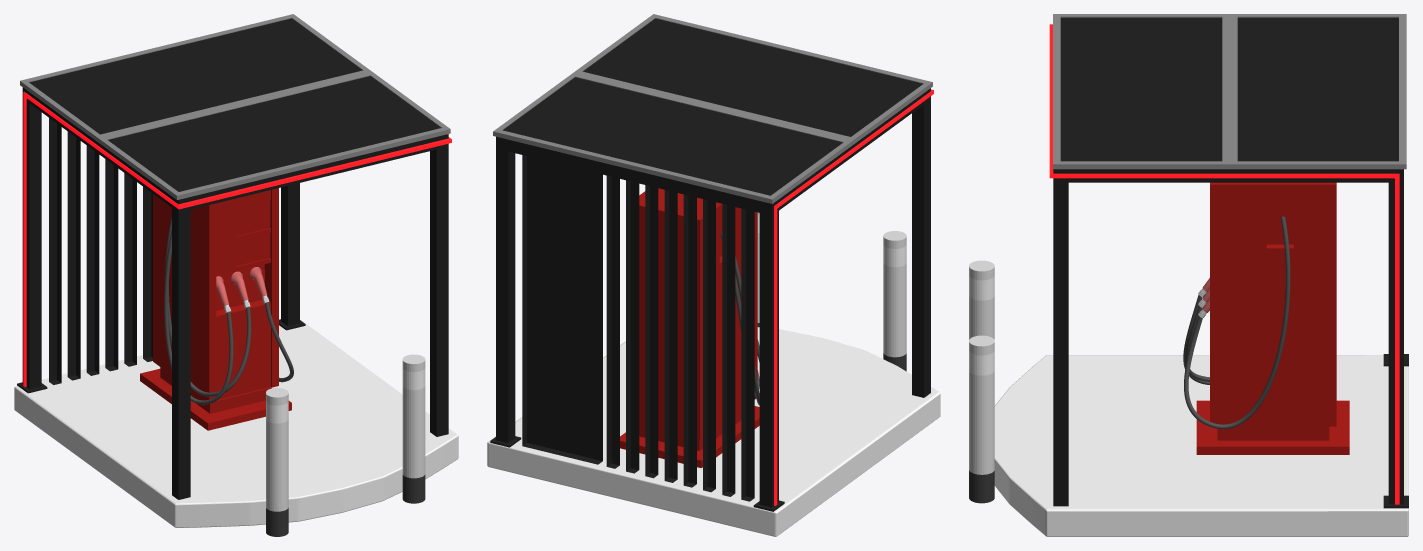
The model's file is campus_shelter.glb.
3 views of the same model, side by side, from view 1: azimuth 30°, elevation 25°; view 2: azimuth 150°, elevation 25°; view 3: azimuth 270°, elevation 25° (orthographic). The views are drawn at different scales.
Visible parts, largest first — view 1: campus_shelter.glb; view 2: campus_shelter.glb; view 3: campus_shelter.glb.
Boxes of the visible parts, x1=… form: campus_shelter.glb: x1=14, y1=14, x2=458, y2=536; campus_shelter.glb: x1=487, y1=14, x2=940, y2=536; campus_shelter.glb: x1=969, y1=14, x2=1408, y2=536.
Bounding box in the file's own units: 2.37 × 2.63 × 2.82.
